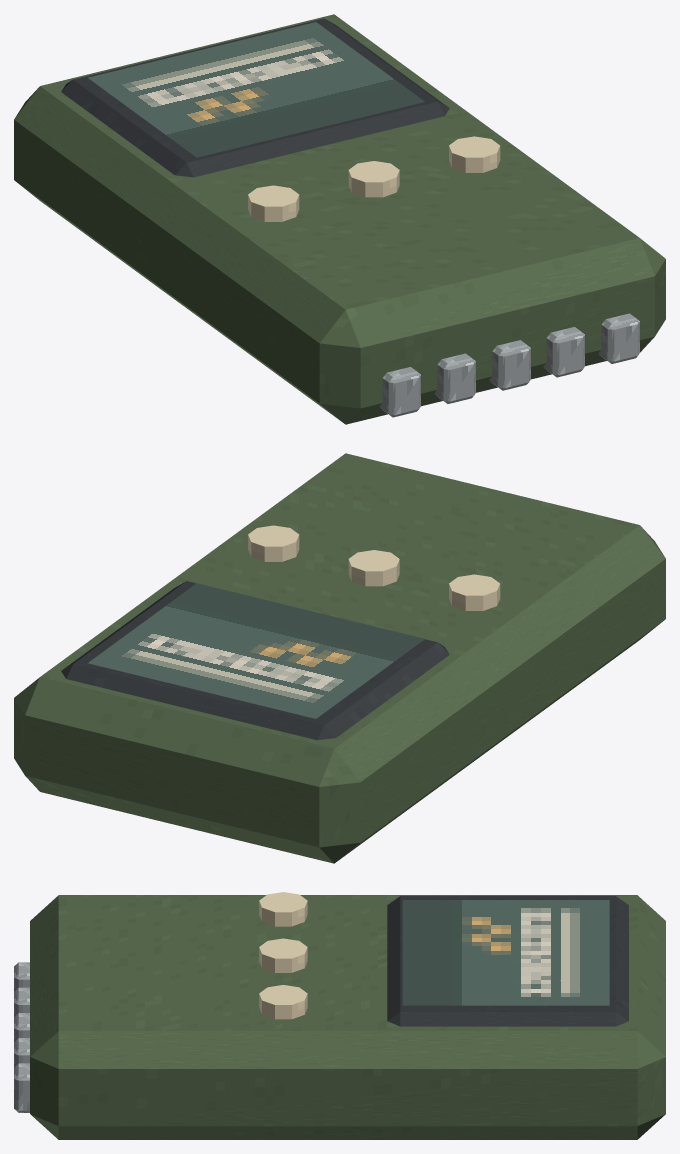
File: electrohack.glb
3 views of the same model, one above another, from view 1: azimuth 30°, elevation 25°; view 2: azimuth 150°, elevation 25°; view 3: azimuth 270°, elevation 25° (orthographic). The views are drawn at different scales.
Parts seen in each view (by area): view 1: block_handheld electronics housing, block_display and markings, block_screen recess, block_hardware port (×5), block_rubber function button (×3); view 2: block_handheld electronics housing, block_display and markings, block_screen recess, block_rubber function button (×3); view 3: block_handheld electronics housing, block_display and markings, block_screen recess, block_rubber function button (×3), block_hardware port (×5).
Part boxes in pixels (box(x1,y1,x2,y2)): block_handheld electronics housing: box(14, 14, 665, 424); block_display and markings: box(88, 22, 424, 157); block_screen recess: box(61, 18, 449, 177); block_hardware port (×5): box(379, 313, 639, 417); block_rubber function button (×3): box(248, 136, 500, 221); block_handheld electronics housing: box(14, 453, 665, 863); block_display and markings: box(88, 583, 424, 718); block_screen recess: box(61, 581, 449, 740); block_rubber function button (×3): box(248, 525, 500, 610); block_handheld electronics housing: box(30, 895, 665, 1139); block_display and markings: box(402, 900, 609, 1005); block_screen recess: box(387, 896, 628, 1026); block_rubber function button (×3): box(259, 892, 307, 1019); block_hardware port (×5): box(14, 962, 29, 1112).
Bounding box in the file's own units: 0.0867 × 0.0311 × 0.1493.
Materials: 1 (1 with a texture image).
